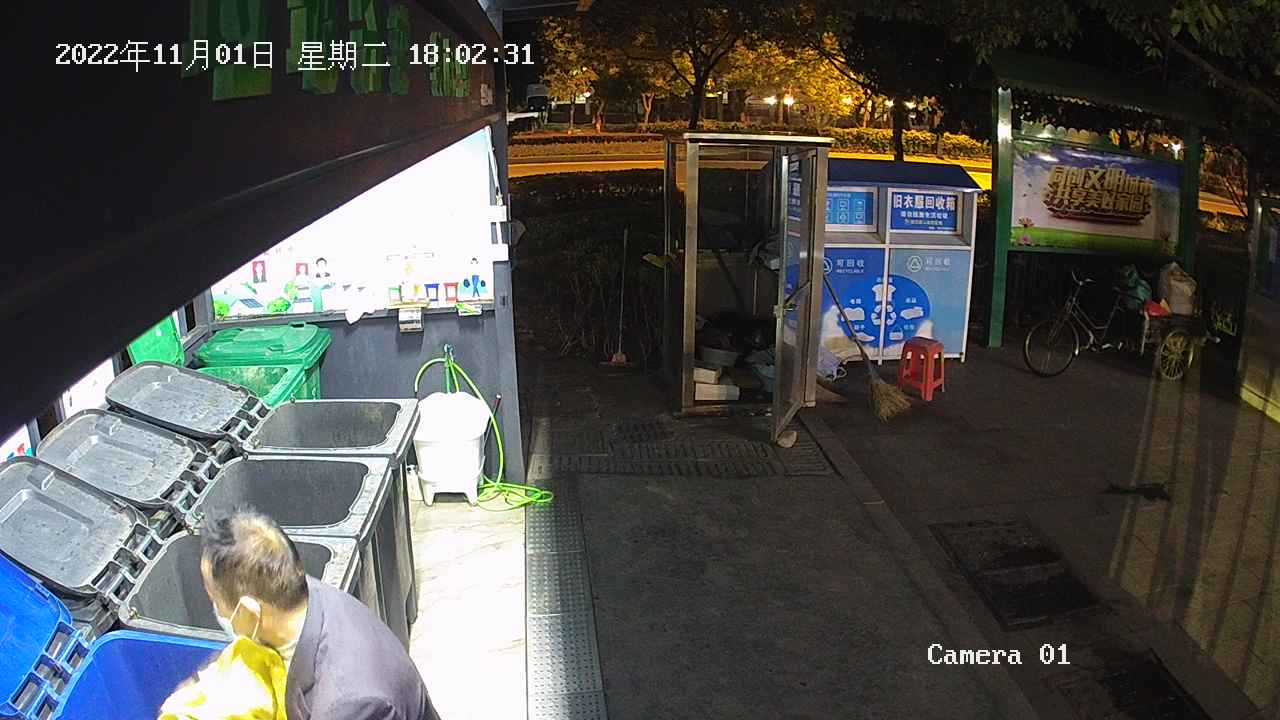person: (196, 500, 442, 720)
